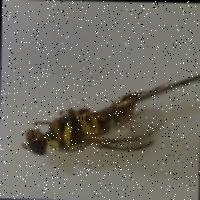Oriental-fruit-fly: (16, 80, 166, 165)
